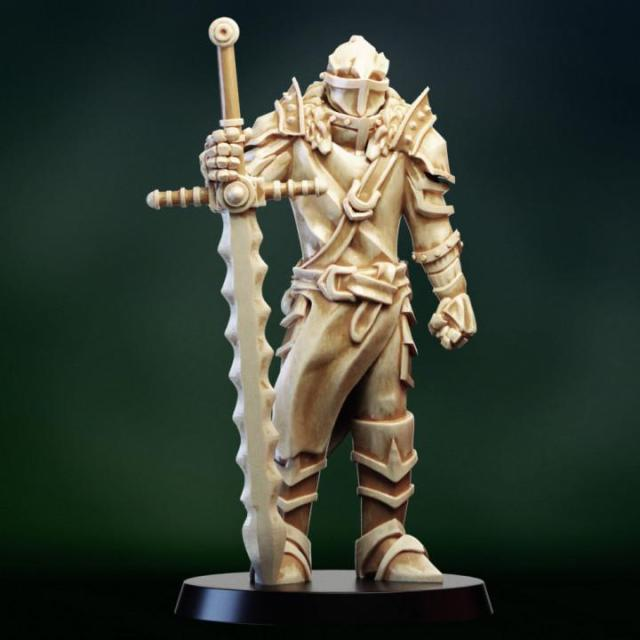Without deffect: (132, 5, 514, 631)
